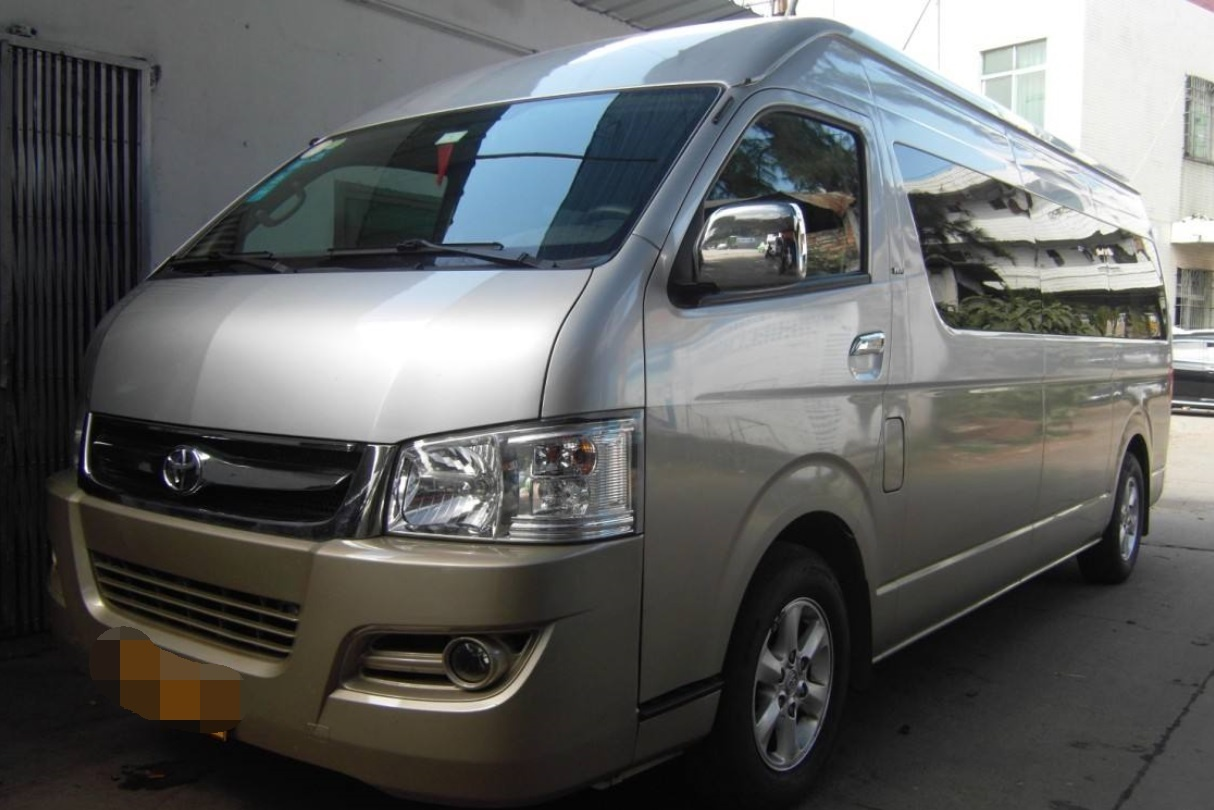minibus: (86, 36, 1183, 778)
